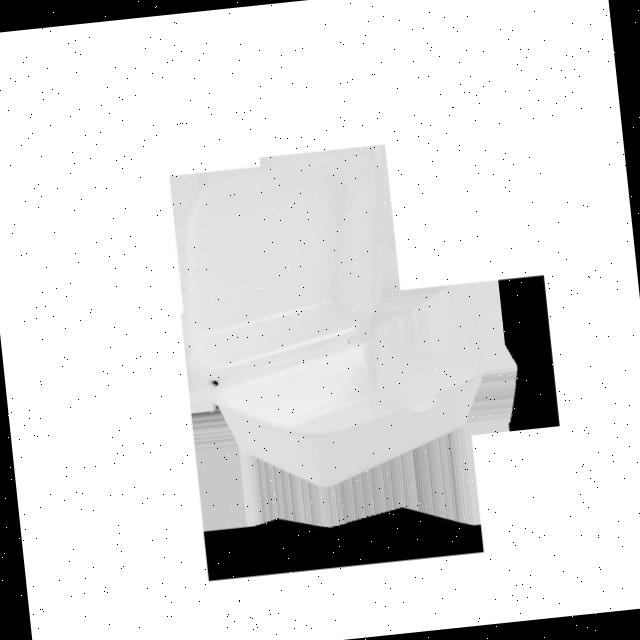styrofoam: (164, 132, 528, 554)
